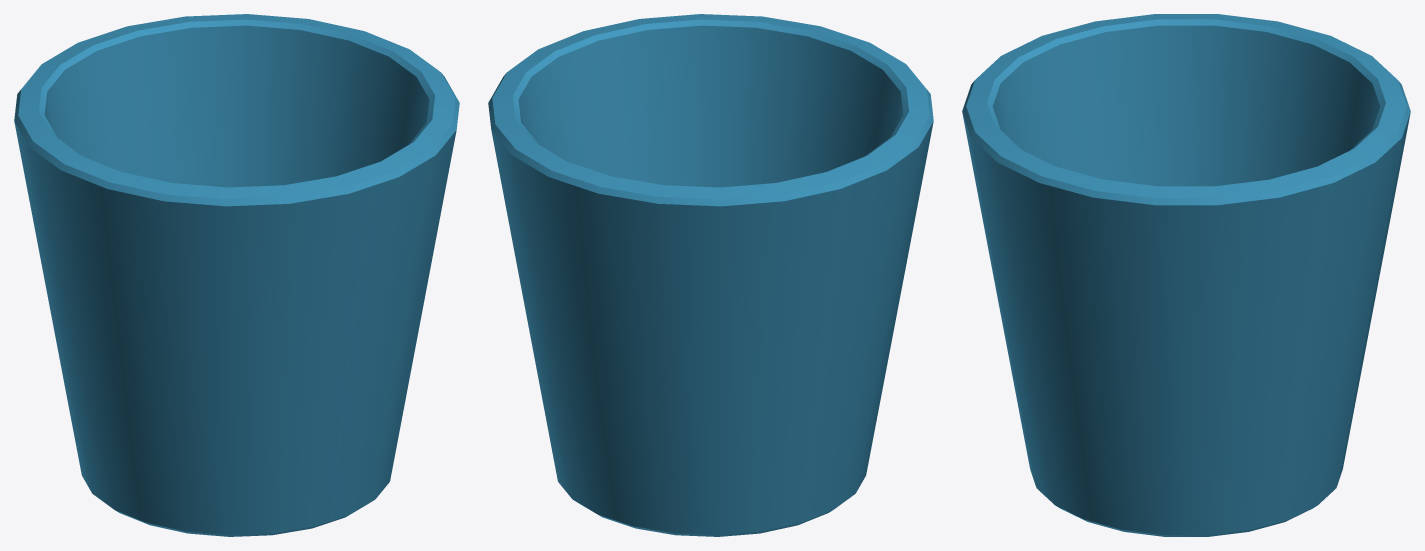
The model's file is Pencil_Holder.glb.
3 views of the same model, side by side, from view 1: azimuth 30°, elevation 25°; view 2: azimuth 150°, elevation 25°; view 3: azimuth 270°, elevation 25° (orthographic).
Visible parts, largest first — view 1: Pencil_holder; view 2: Pencil_holder; view 3: Pencil_holder.
Boxes of the visible parts, x1,y1,x2,y2 form: Pencil_holder: (14,14,459,536); Pencil_holder: (488,14,933,536); Pencil_holder: (962,14,1410,536).
Bounding box in the file's own units: 0.1429 × 0.1317 × 0.1444.
